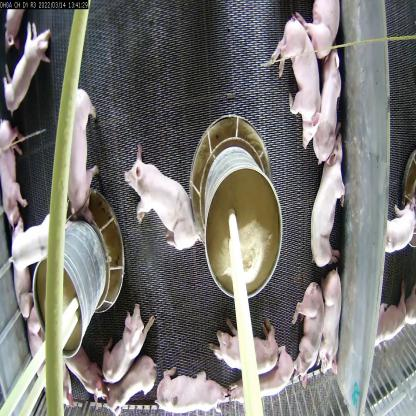Pig: (122, 144, 204, 260), (266, 7, 324, 155), (309, 127, 351, 269), (0, 18, 55, 114), (60, 77, 96, 222), (310, 39, 348, 171), (0, 114, 34, 235), (292, 279, 324, 390), (208, 330, 243, 416), (320, 266, 342, 379), (297, 0, 342, 54)
